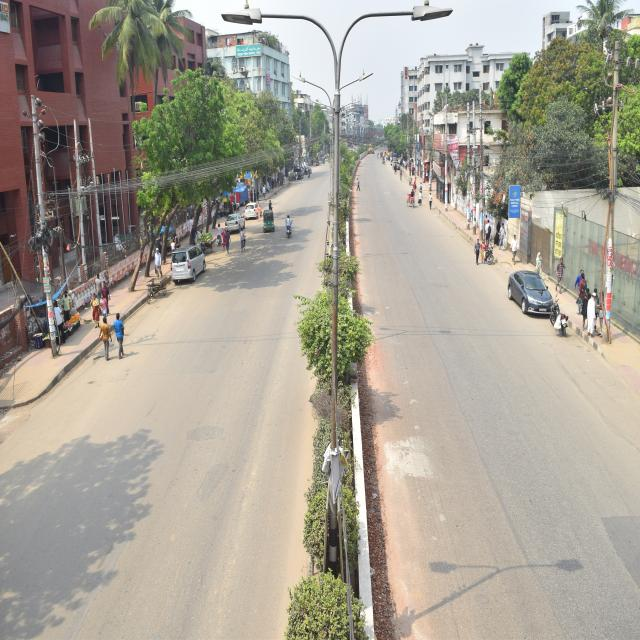car: (504, 263, 560, 328), (220, 208, 247, 232), (245, 199, 265, 219)
microbus: (167, 240, 213, 286)
motorbike: (547, 293, 570, 345), (278, 206, 301, 244), (481, 235, 500, 275)
